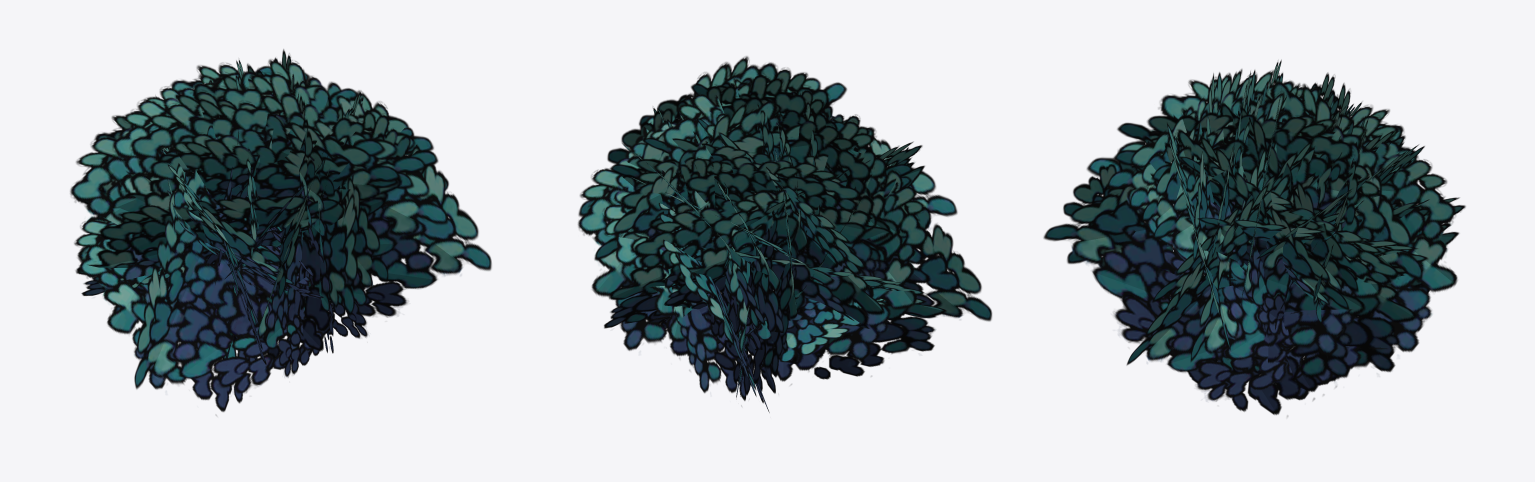
Rendered from bush.glb.
3 renders of one model, left to right at view 1: azimuth 30°, elevation 25°; view 2: azimuth 150°, elevation 25°; view 3: azimuth 270°, elevation 25°, orthographic. The views are drawn at different scales.
Visible parts, largest first — view 1: cut-1leaves-1.037, cut-1leaves-1.042, cut-1leaves-1.044, cut-1leaves-1.035, cut-1leaves-1.020, cut-1leaves-1.031, cut-1leaves-1.016, cut-1leaves-1.025, cut-1leaves-1.007, cut-1leaves-1.038, cut-1leaves-1.027, cut-1leaves-1.040 (+21 smaller); view 2: cut-1leaves-1.044, cut-1leaves-1.005, cut-1leaves-1.017, cut-1leaves-1.037, cut-1leaves-1.046, cut-1leaves-1.007, cut-1leaves-1.004, cut-1leaves-1.009, cut-1leaves-1.035, cut-1leaves-1.024, cut-1leaves-1.016, cut-1leaves-1.019 (+26 smaller); view 3: cut-1leaves-1.040, cut-1leaves-1.042, cut-1leaves-1.005, cut-1leaves-1.017, cut-1leaves-1.039, cut-1leaves-1.013, cut-1leaves-1.030, cut-1leaves-1.028, cut-1leaves-1.006, cut-1leaves-1.009, cut-1leaves-1.031, cut-1leaves-1.014 (+25 smaller).
Boxes of the visible parts, left/top/right/bottom form: cut-1leaves-1.037: left=134, top=168, right=333, bottom=393; cut-1leaves-1.042: left=332, top=90, right=491, bottom=317; cut-1leaves-1.044: left=75, top=195, right=337, bottom=295; cut-1leaves-1.035: left=74, top=215, right=254, bottom=415; cut-1leaves-1.020: left=124, top=138, right=398, bottom=211; cut-1leaves-1.031: left=168, top=97, right=400, bottom=231; cut-1leaves-1.016: left=111, top=84, right=358, bottom=256; cut-1leaves-1.025: left=307, top=96, right=357, bottom=331; cut-1leaves-1.007: left=70, top=66, right=272, bottom=313; cut-1leaves-1.038: left=254, top=151, right=323, bottom=377; cut-1leaves-1.027: left=177, top=101, right=427, bottom=214; cut-1leaves-1.040: left=327, top=156, right=388, bottom=338; cut-1leaves-1.044: left=754, top=182, right=927, bottom=384; cut-1leaves-1.005: left=604, top=180, right=846, bottom=328; cut-1leaves-1.017: left=578, top=122, right=724, bottom=370; cut-1leaves-1.037: left=879, top=169, right=991, bottom=323; cut-1leaves-1.046: left=653, top=174, right=912, bottom=316; cut-1leaves-1.007: left=696, top=117, right=884, bottom=363; cut-1leaves-1.004: left=586, top=157, right=819, bottom=374; cut-1leaves-1.009: left=594, top=100, right=822, bottom=318; cut-1leaves-1.035: left=699, top=246, right=946, bottom=379; cut-1leaves-1.024: left=610, top=157, right=873, bottom=354; cut-1leaves-1.016: left=691, top=83, right=890, bottom=322; cut-1leaves-1.019: left=642, top=138, right=894, bottom=299; cut-1leaves-1.040: left=1043, top=158, right=1279, bottom=381; cut-1leaves-1.042: left=1126, top=173, right=1318, bottom=401; cut-1leaves-1.005: left=1298, top=135, right=1457, bottom=387; cut-1leaves-1.017: left=1179, top=156, right=1417, bottom=395; cut-1leaves-1.039: left=1137, top=161, right=1365, bottom=416; cut-1leaves-1.013: left=1117, top=112, right=1387, bottom=349; cut-1leaves-1.030: left=1142, top=129, right=1349, bottom=310; cut-1leaves-1.028: left=1216, top=83, right=1386, bottom=378; cut-1leaves-1.006: left=1190, top=141, right=1303, bottom=382; cut-1leaves-1.009: left=1237, top=80, right=1422, bottom=280; cut-1leaves-1.031: left=1106, top=70, right=1294, bottom=278; cut-1leaves-1.014: left=1218, top=102, right=1358, bottom=292.
Size of the model in its own units: 67.67 by 62.11 by 67.54.
2 materials, 1 textured.
